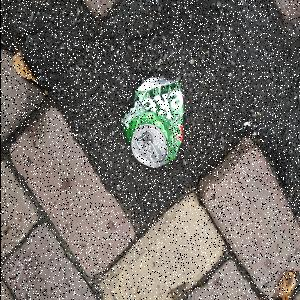Can: (120, 77, 186, 170)
